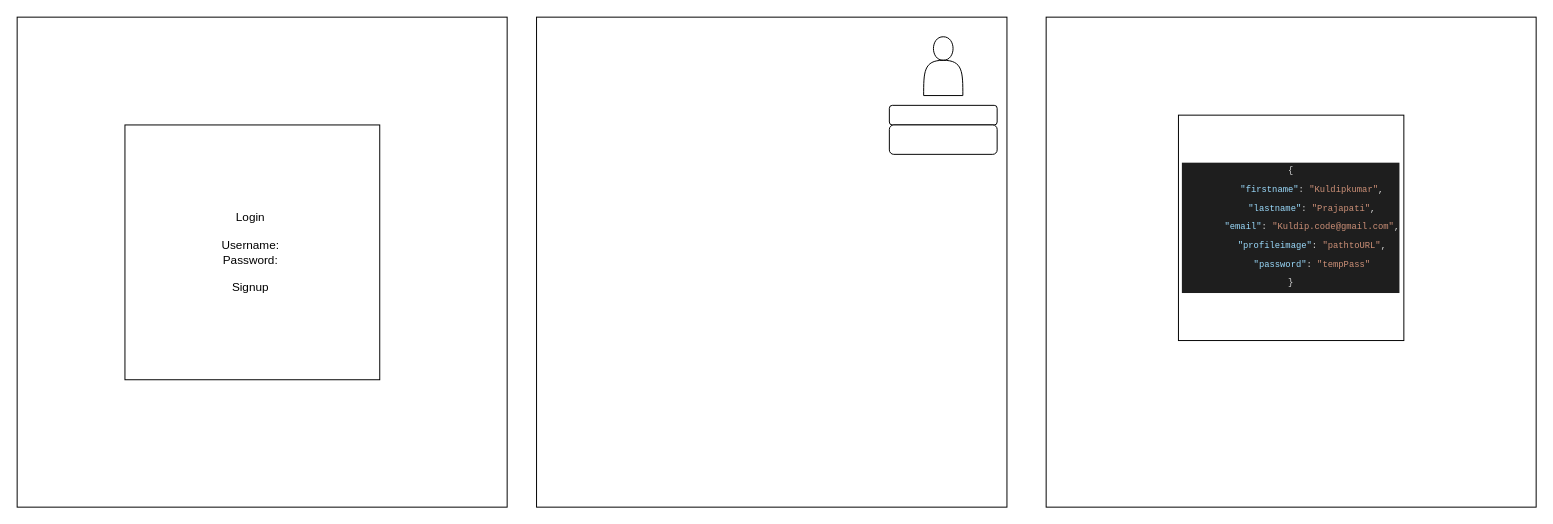
Image size: 1553x524. Some labels were removed from this diagram. Each missing label, with the centre of its shape:
logout: (x=942, y=139)
profile: (x=942, y=114)
